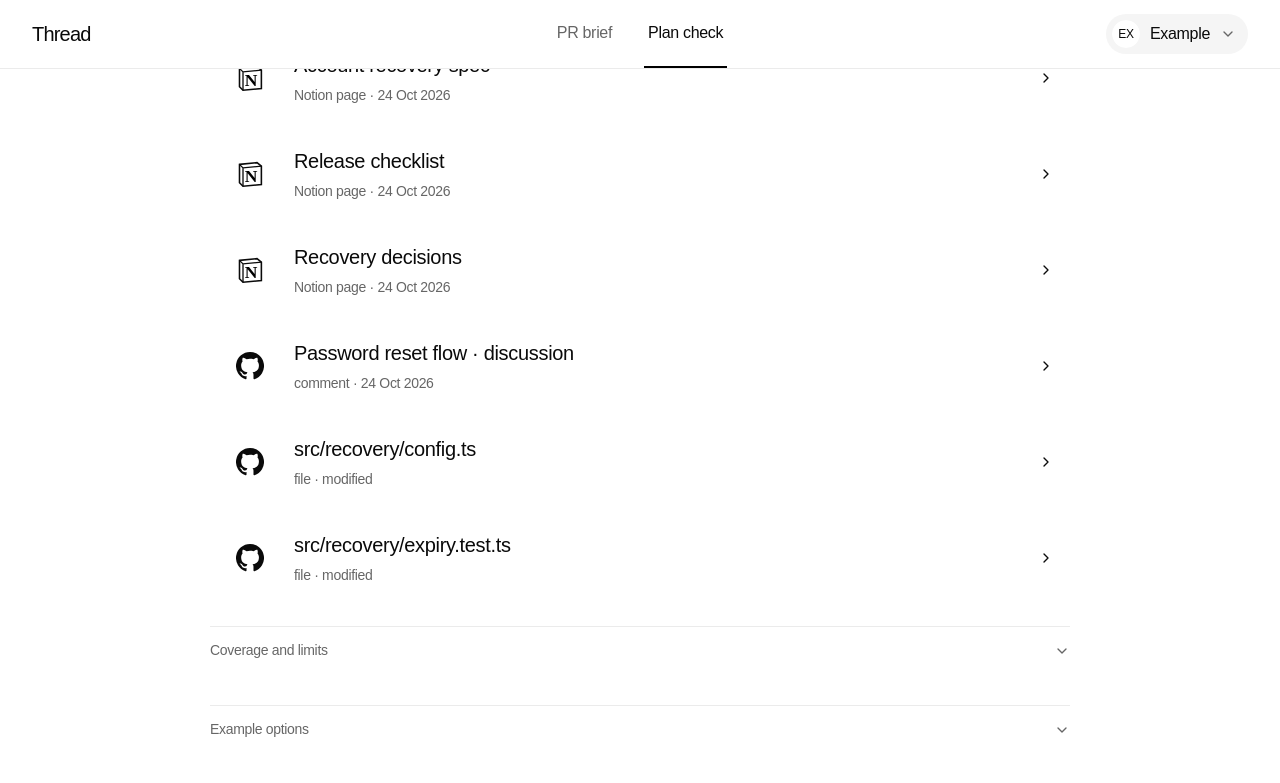
it: places the run action above the preview and opens source details without AI
(page scrolled)
Click the button "Example options".
click(259, 729)  # box [210,706,1070,752]
(page scrolled)
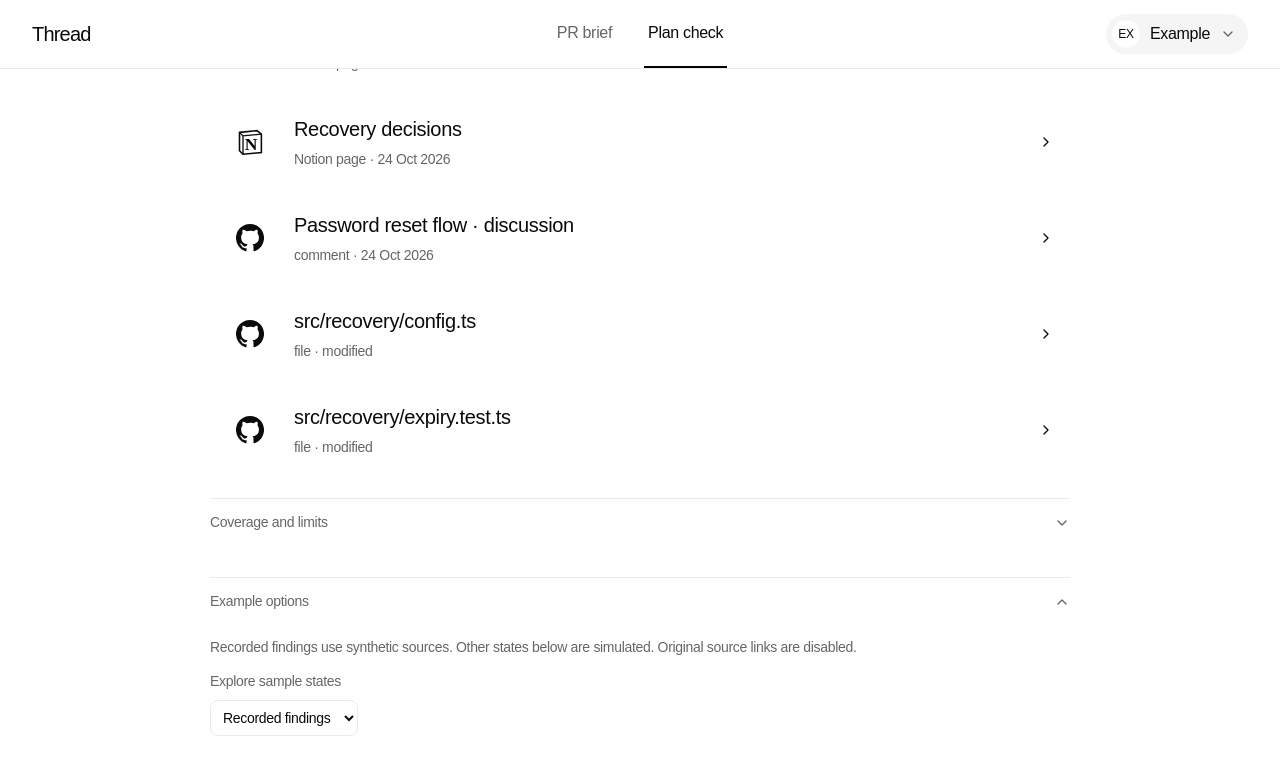
Select "Before check" in the dropdown labelled "Explore sample states" at (284, 718), box [210,700,358,736]
(page scrolled)
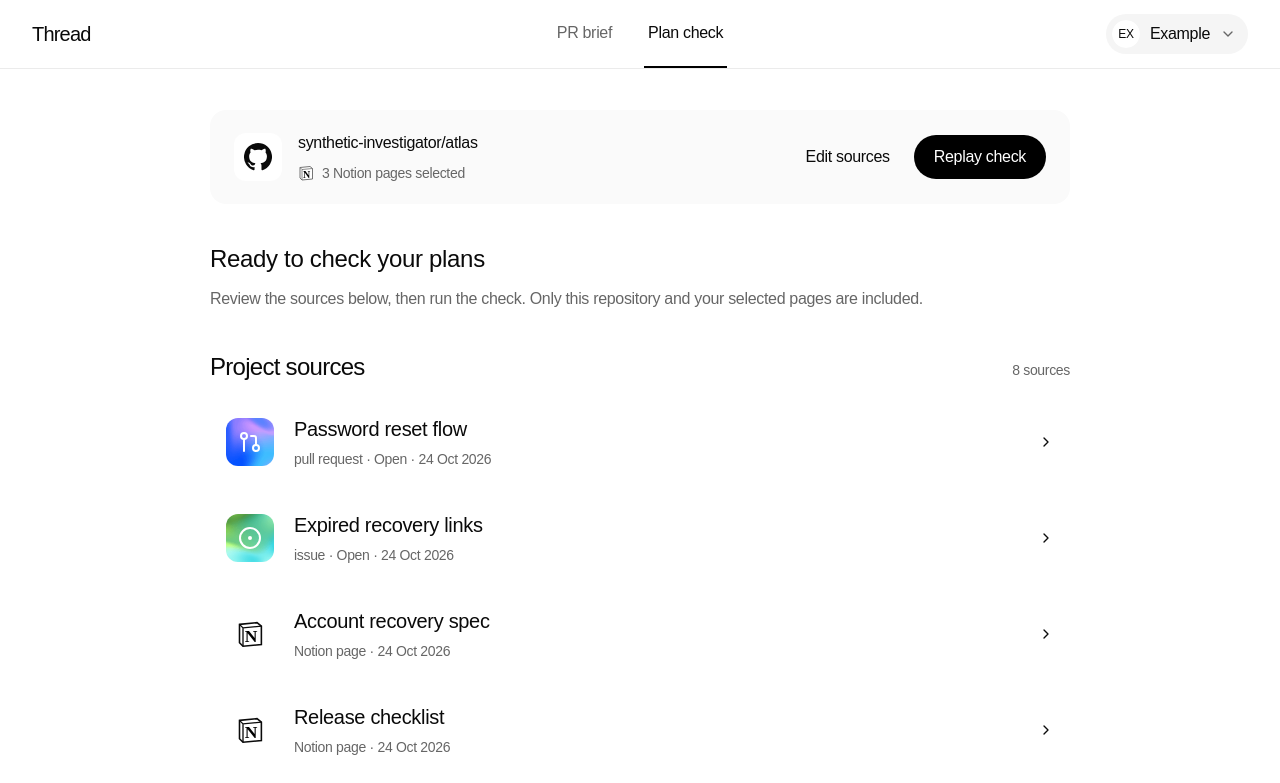
Click the button "Password reset flow pull request · Open · 24 Oct 2026".
click(250, 442)  # box [210,398,1070,486]
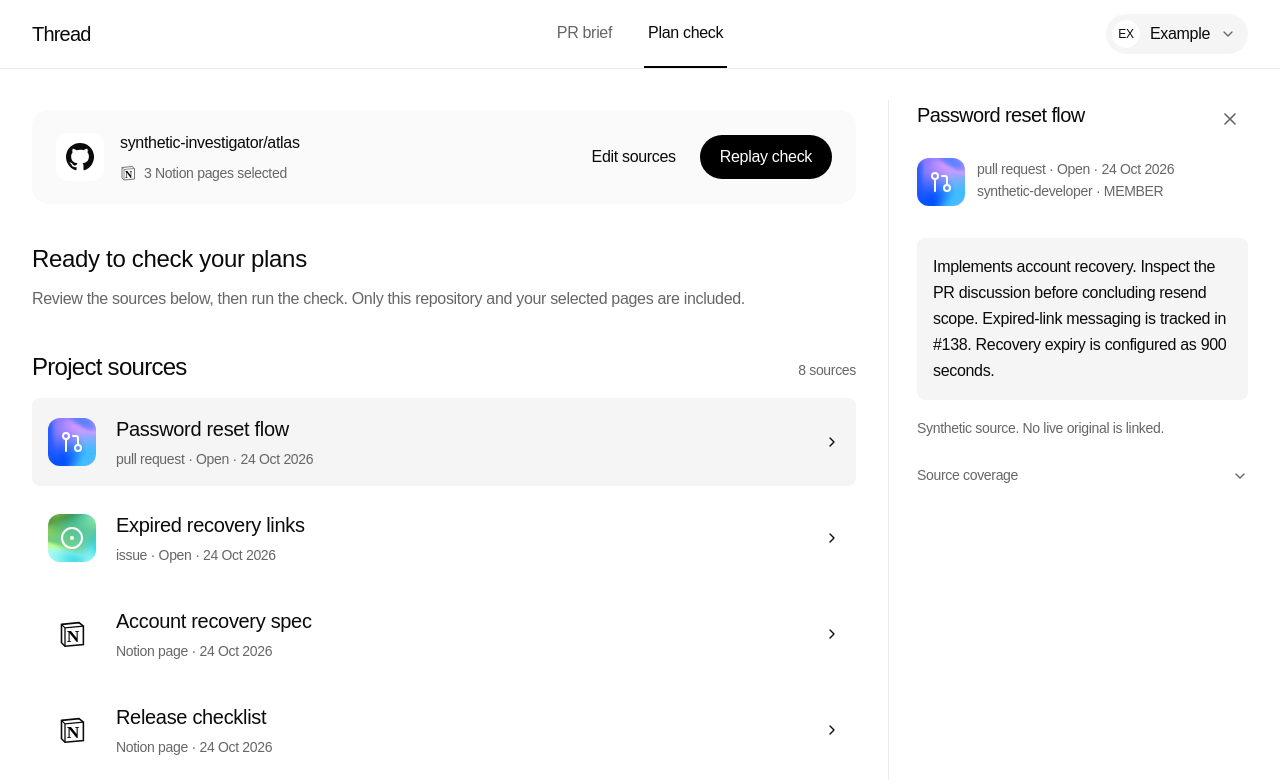
expect the element "Password reset flow" is shown: met, box [888,100,1279,780]
